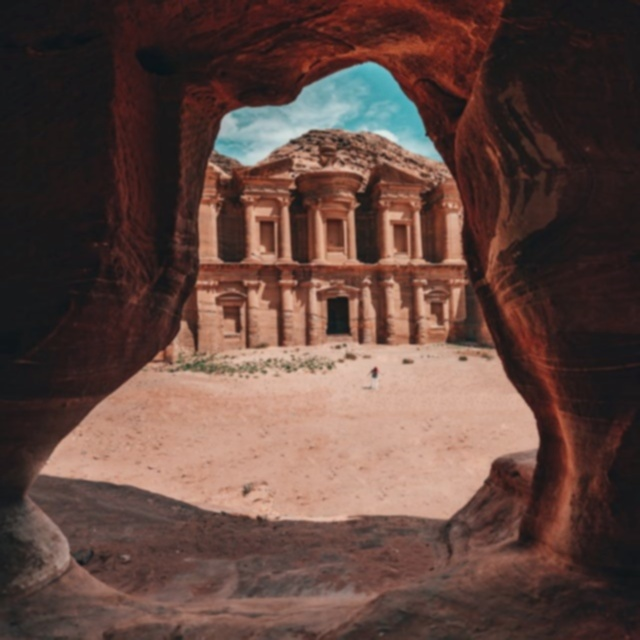oil_spill: (0, 0, 112, 400)
turbid_water: (0, 0, 623, 640), (13, 13, 627, 627)
